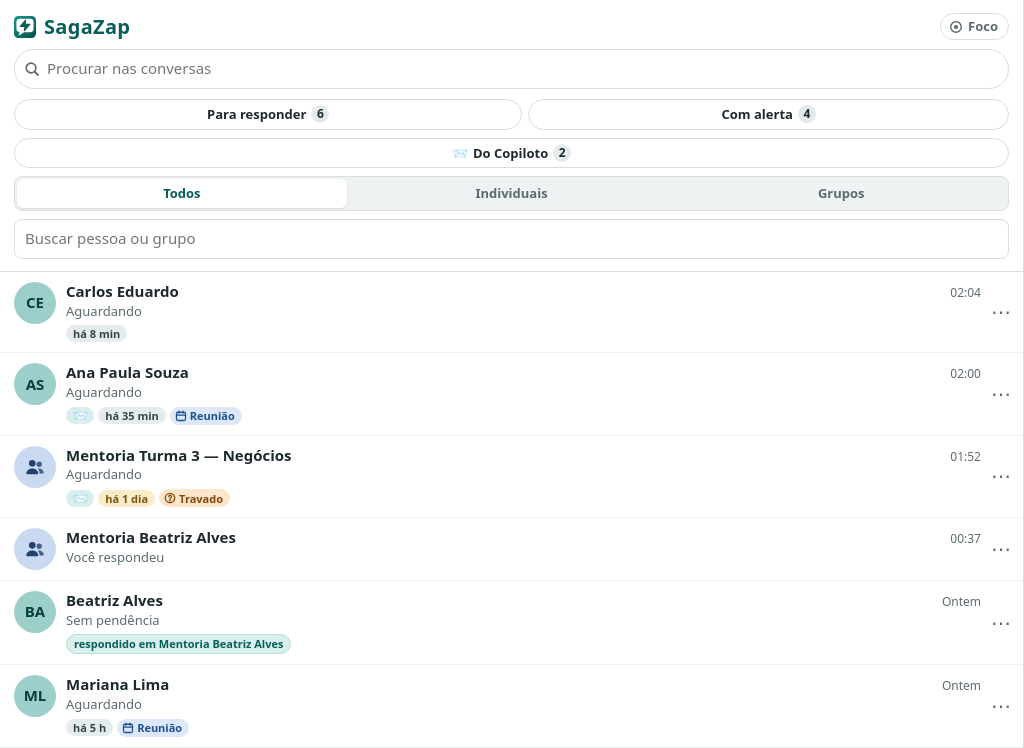
it: Follow-up do Copiloto (v0.7.0) › lista de conversas: 📨 nas conversas com mensagem do Copiloto e o filtro "Do Copiloto (2)"
Expected: the number of elements titled "Mensagem do Copiloto esperando você" is 2, left=66, top=407, right=94, bottom=424; left=66, top=490, right=94, bottom=507
Click the button "📨 Do Copiloto 2" at (512, 153), box left=14, top=138, right=1009, bottom=168
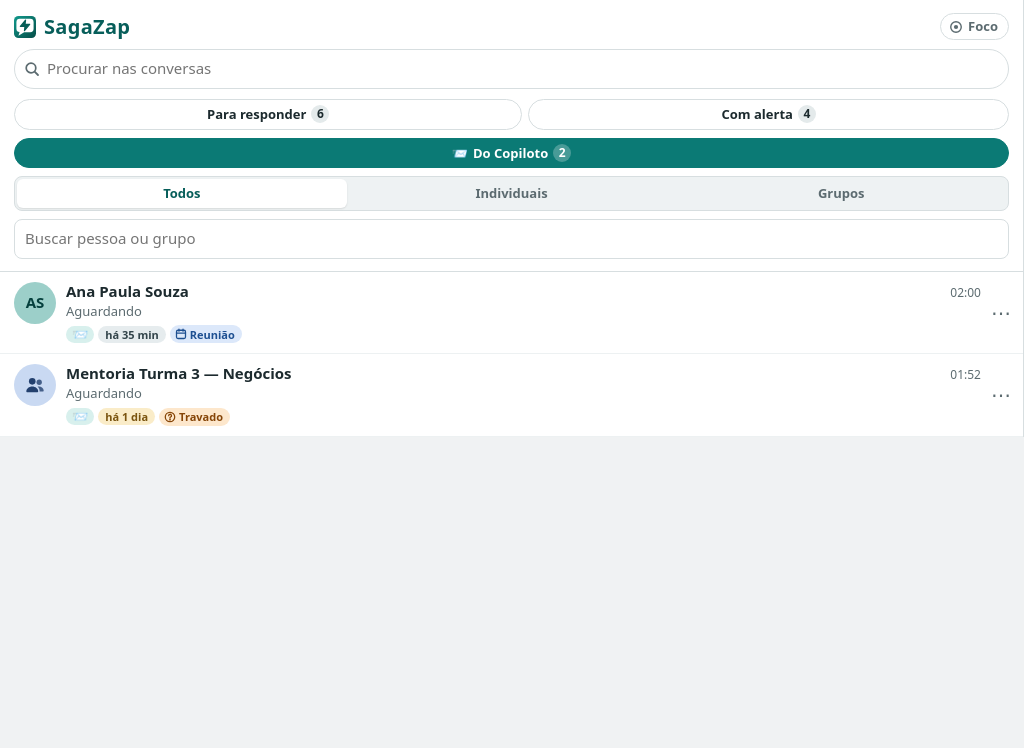
Result: the number of list items is 2 at left=0, top=272, right=1023, bottom=354; left=0, top=354, right=1023, bottom=437
